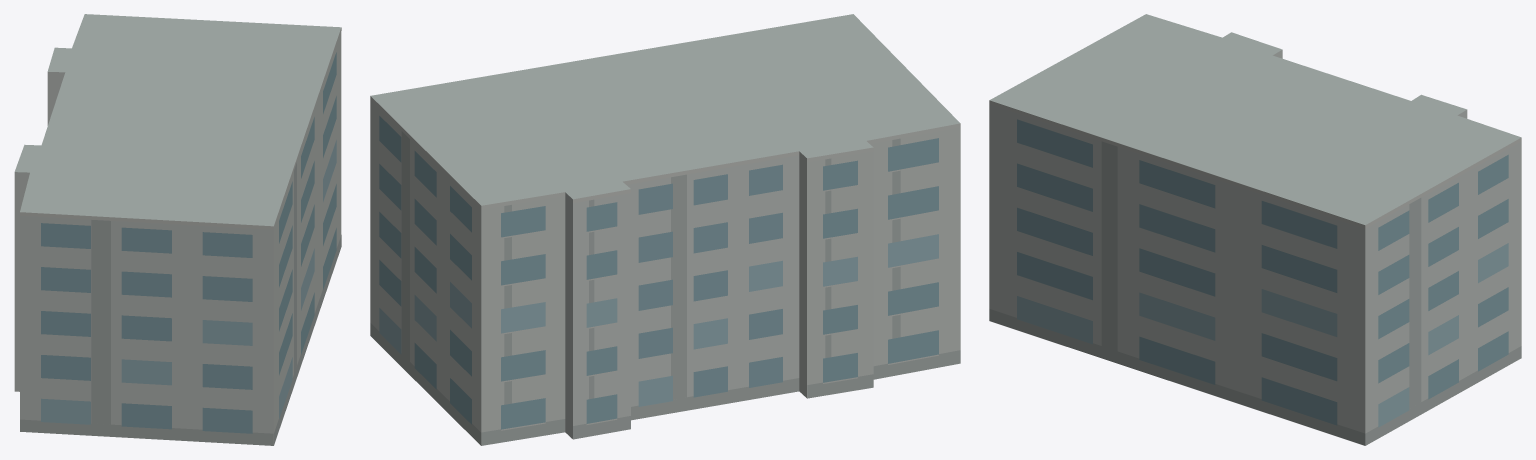
The model's file is survey-upis-33016394.glb.
3 views of the same model, side by side, from view 1: azimuth 30°, elevation 25°; view 2: azimuth 150°, elevation 25°; view 3: azimuth 270°, elevation 25° (orthographic). The views are drawn at different scales.
Visible parts, largest first — view 1: survey-upis-33016394.tmp; view 2: survey-upis-33016394.tmp; view 3: survey-upis-33016394.tmp.
Part boxes in pixels (x1=…): survey-upis-33016394.tmp: x1=14, y1=14, x2=341, y2=445; survey-upis-33016394.tmp: x1=370, y1=14, x2=960, y2=445; survey-upis-33016394.tmp: x1=989, y1=14, x2=1521, y2=445.
Bounding box in the file's own units: 29.97 × 14.6 × 31.92.
